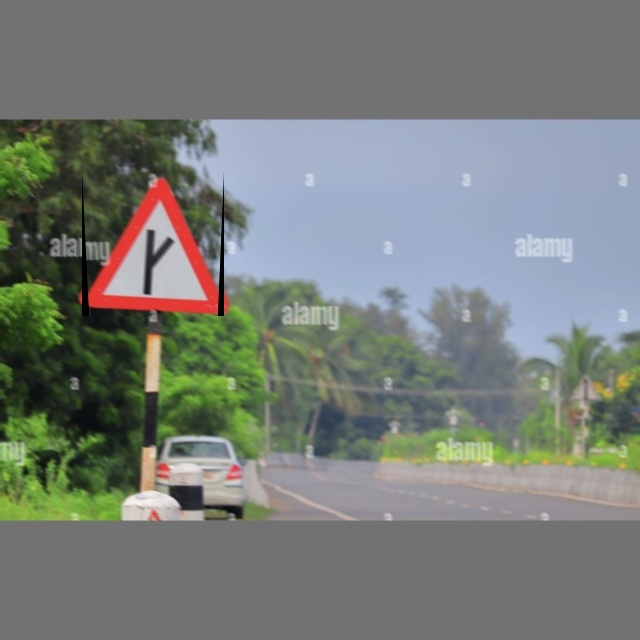Y_Intersection: (82, 171, 224, 316)
